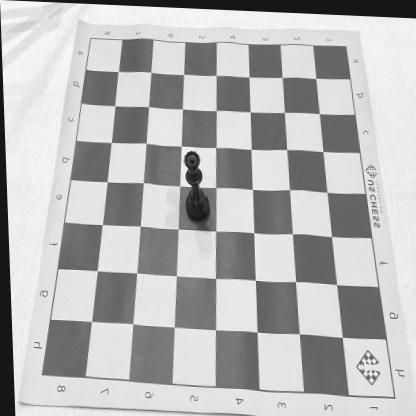black-queen: (182, 148, 210, 221)
